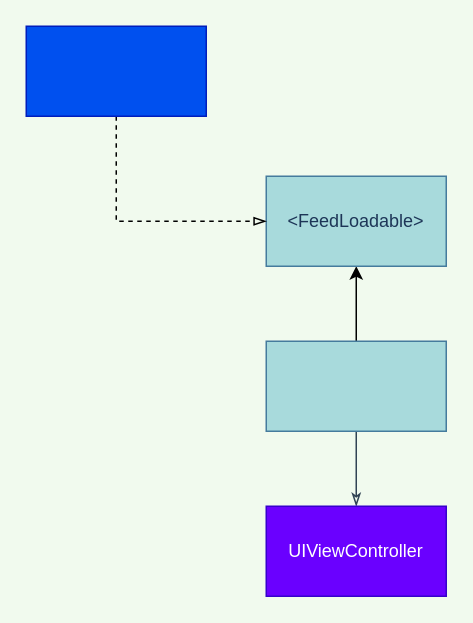
Image size: 473x623. Some labels were removed from this diagram. The shapes that lost their labels are listed below. From the top down, each one's centre as x and y in pixels, then its label:
point (115, 70): RemoteFeedLoader
point (355, 385): FeedViewController
